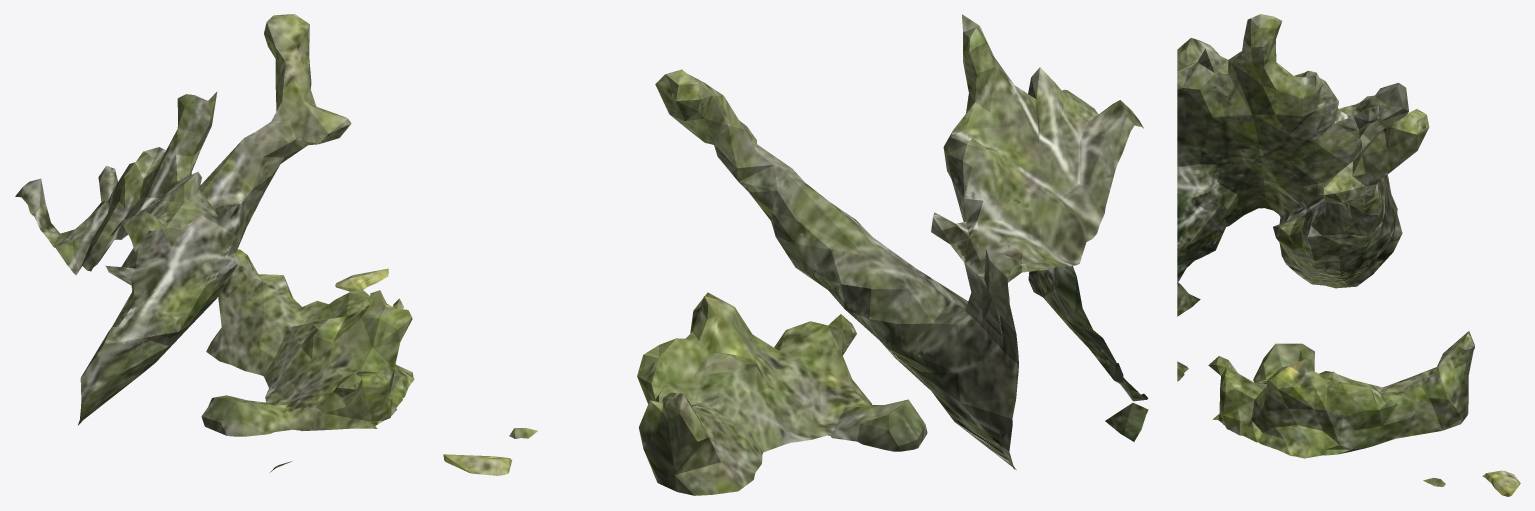
The picture shows the model from 3 angles, left to right: view 1: azimuth 30°, elevation 25°; view 2: azimuth 150°, elevation 25°; view 3: azimuth 270°, elevation 25°; orthographic projection. The views are drawn at different scales.
Bounding box in the file's own units: 2.84 × 2.26 × 2.09.
2 materials, 2 textured.
